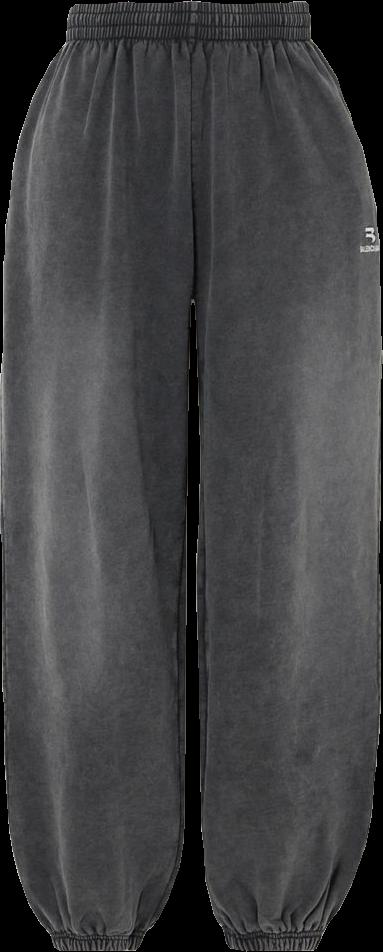Hemline: (229, 936, 319, 951), (55, 939, 146, 951)
Pantleg: (0, 0, 196, 950), (195, 0, 381, 950)
Waistline: (66, 29, 315, 48), (71, 0, 308, 13)
